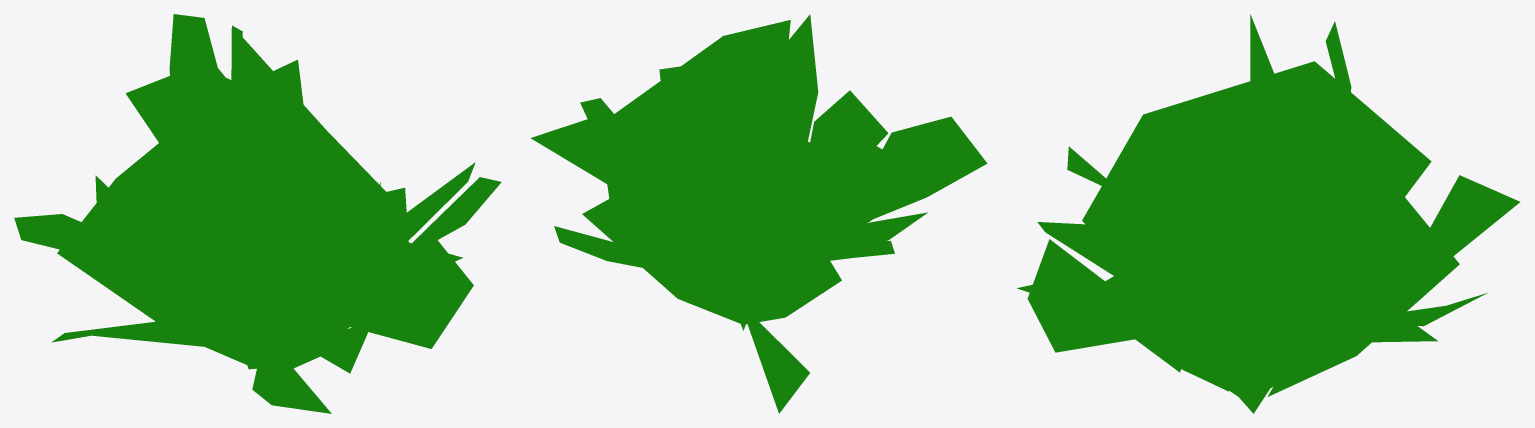
File: Deadbush_4.fbx
The picture shows the model from 3 angles, left to right: view 1: azimuth 30°, elevation 25°; view 2: azimuth 150°, elevation 25°; view 3: azimuth 270°, elevation 25°; orthographic projection. The views are drawn at different scales.
Visible parts, largest first — view 1: Deadbush_4; view 2: Deadbush_4; view 3: Deadbush_4.
Part boxes in pixels (<box>): Deadbush_4: <box>14,14,501,413</box>; Deadbush_4: <box>530,14,987,413</box>; Deadbush_4: <box>1017,14,1519,413</box>.
Bounding box in the file's own units: 145 × 116 × 146.
